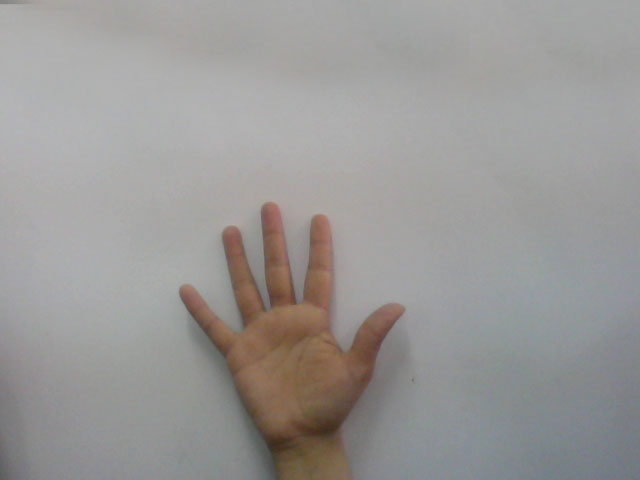hand: (172, 190, 415, 433)
